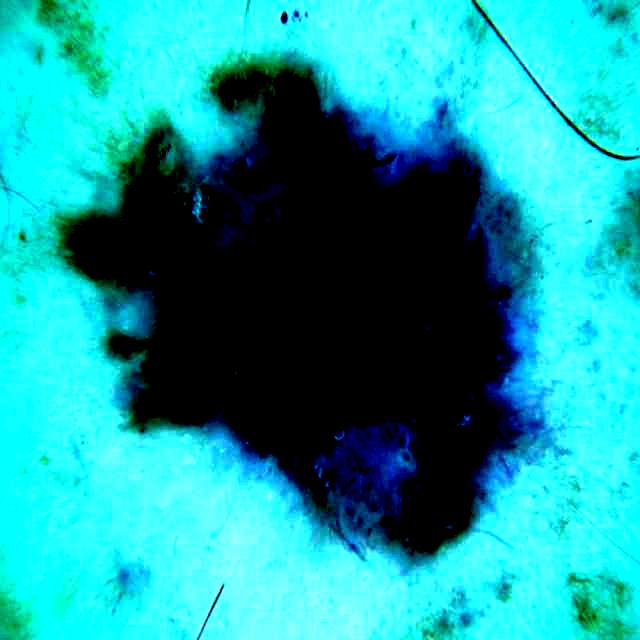AKIEC: (62, 63, 507, 548)
